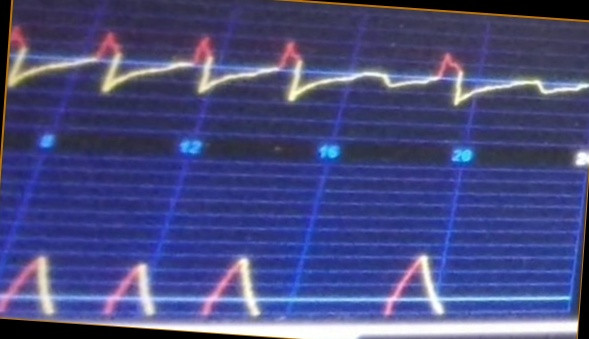Ineffective_effort Flow: (10, 21, 589, 117)
Ineffective_effort Volume: (2, 245, 487, 318)
